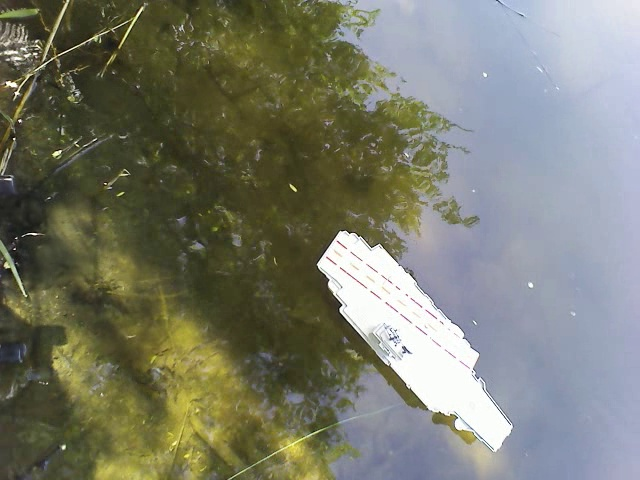aircraft_carrier: (315, 227, 514, 456)
